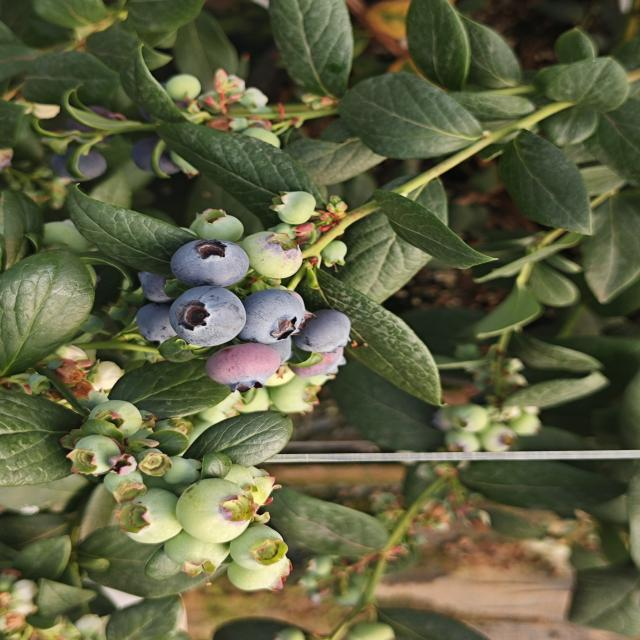ripe: (170, 237, 258, 295), (171, 290, 248, 346), (245, 282, 306, 341), (119, 131, 194, 178), (38, 139, 113, 185), (131, 272, 177, 341), (312, 304, 354, 348)
